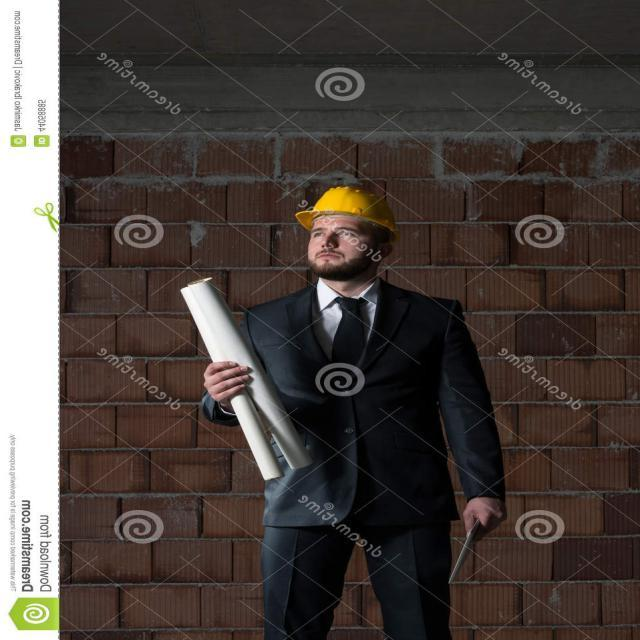safetyhelmet: (283, 178, 403, 296)
